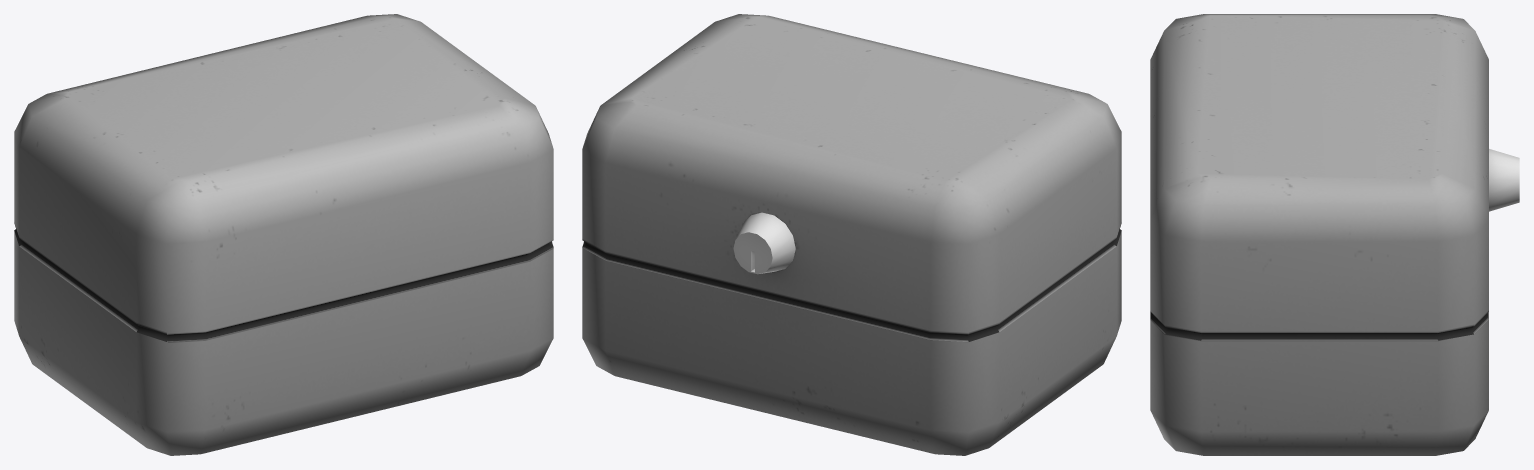
Rendered from smallVault.fbx.
3 renders of one model, left to right at view 1: azimuth 30°, elevation 25°; view 2: azimuth 150°, elevation 25°; view 3: azimuth 270°, elevation 25°, orthographic.
Visible parts, largest first — view 1: smallVault; view 2: smallVault; view 3: smallVault.
Part boxes in pixels (left/top/right/bottom): smallVault: left=14, top=14, right=553, bottom=455; smallVault: left=582, top=14, right=1121, bottom=455; smallVault: left=1150, top=14, right=1519, bottom=455.
Size of the model in its own units: 0.5118 by 0.3232 by 0.393.
1 material, 1 textured.
